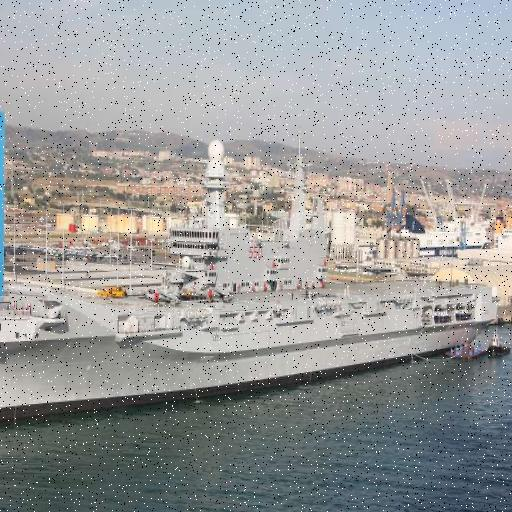Portanaves: (1, 120, 498, 434)
